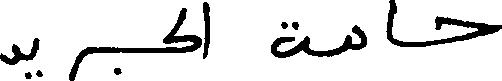X: (437, 11, 501, 49), (165, 3, 200, 57), (270, 17, 305, 62), (71, 42, 87, 80), (348, 20, 364, 54), (0, 39, 17, 69), (202, 0, 208, 63), (388, 0, 394, 49), (31, 33, 36, 80)
